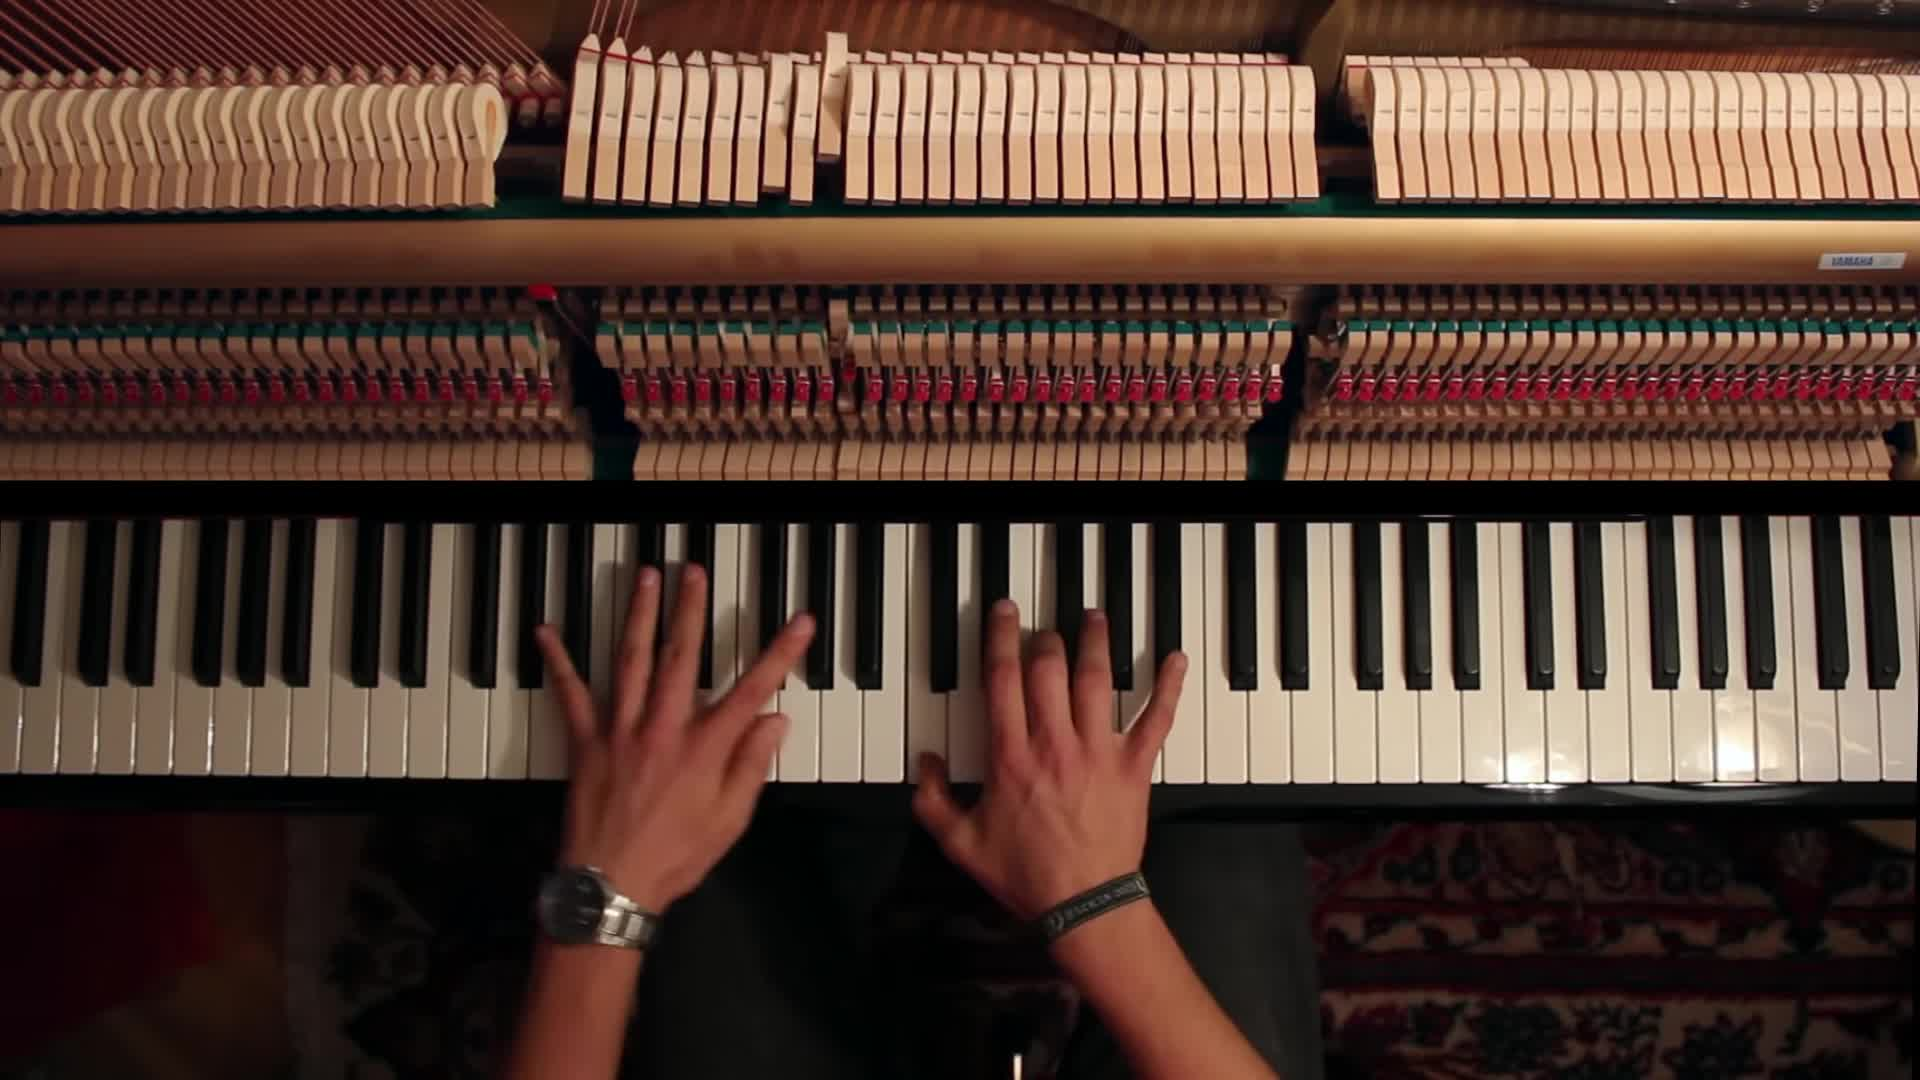left: (537, 560, 819, 880)
right: (913, 601, 1189, 899)
